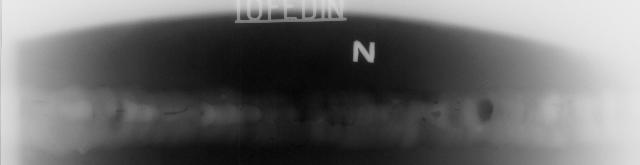FF: (332, 80, 441, 110), (455, 139, 581, 157), (88, 81, 170, 97), (90, 141, 188, 153), (519, 97, 589, 111), (211, 100, 261, 109), (19, 95, 57, 106), (203, 122, 259, 128), (420, 113, 442, 128)
FP: (161, 102, 193, 120), (290, 117, 312, 124), (338, 121, 357, 129), (319, 119, 335, 128), (112, 107, 128, 115), (272, 117, 278, 124)
PO: (469, 96, 506, 128), (450, 98, 470, 124), (199, 109, 207, 117), (269, 136, 277, 142)
